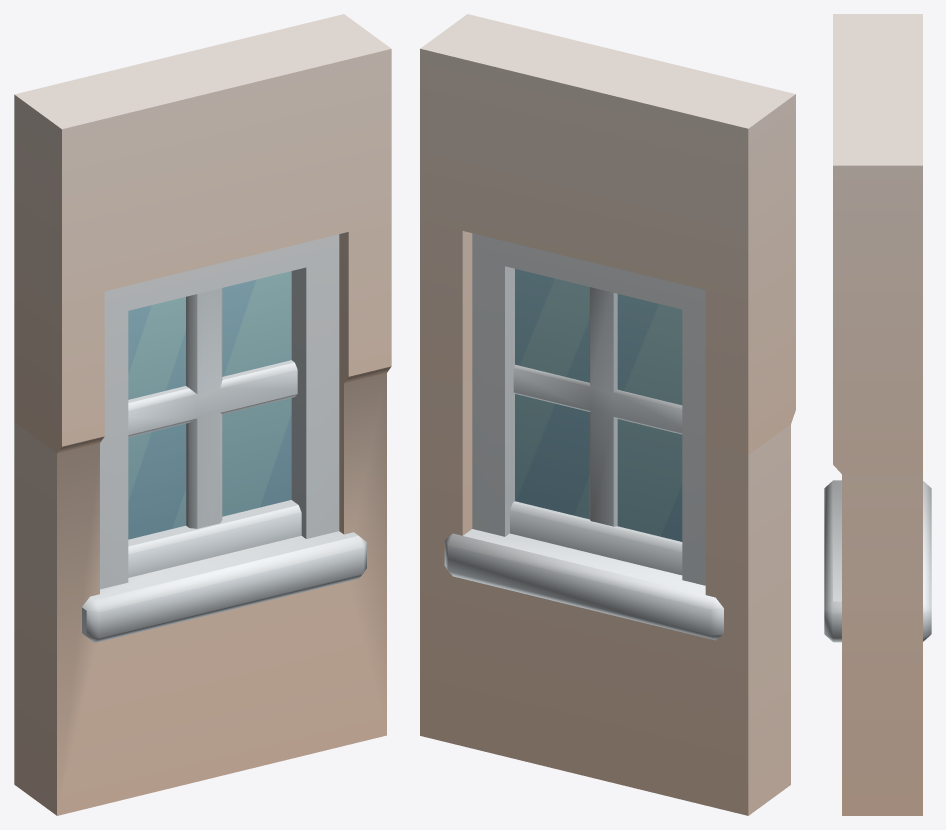
Rendered from Wall_Plain_Kitchen_4.glb.
3 views of the same model, side by side, from view 1: azimuth 30°, elevation 25°; view 2: azimuth 150°, elevation 25°; view 3: azimuth 270°, elevation 25° (orthographic). The views are drawn at different scales.
Parts seen in each view (by area): view 1: wall_plain_kitchen_window; view 2: wall_plain_kitchen_window; view 3: wall_plain_kitchen_window.
Part boxes in pixels (x1,y1,x2,y2): wall_plain_kitchen_window: (14,14,391,815); wall_plain_kitchen_window: (420,14,795,815); wall_plain_kitchen_window: (824,14,931,815).
Bounding box in the file's own units: 2 × 4 × 0.6.
2 materials, 2 textured.
